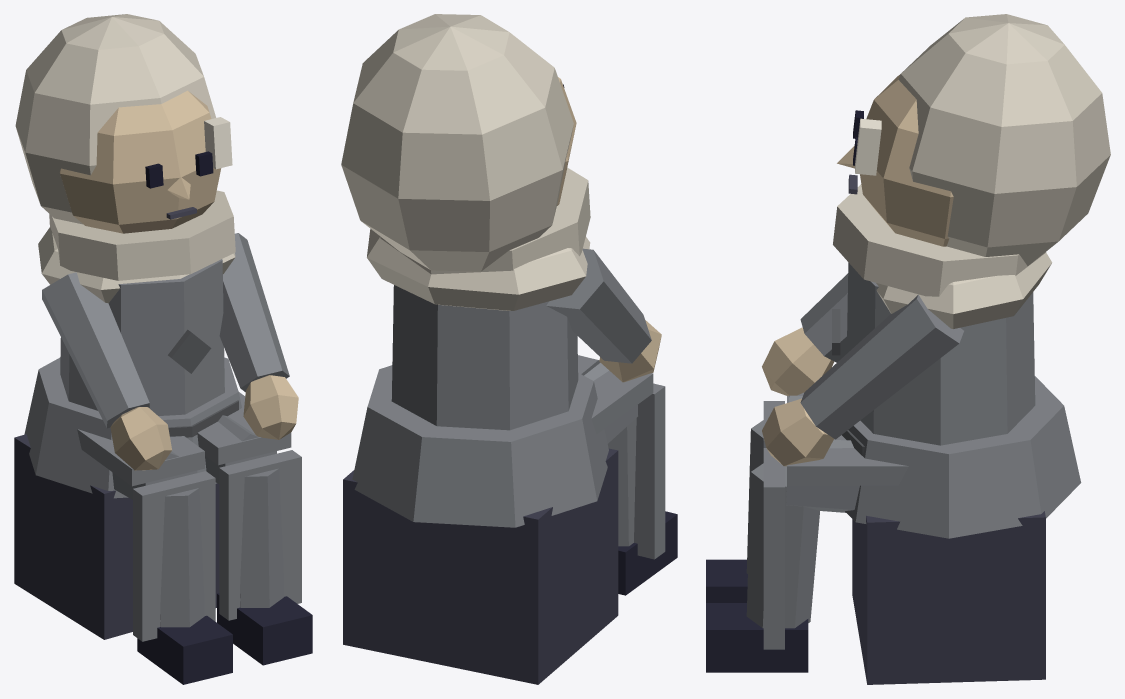
Rendered from oriel_seated.glb.
3 renders of one model, left to right at view 1: azimuth 30°, elevation 25°; view 2: azimuth 150°, elevation 25°; view 3: azimuth 270°, elevation 25°, orthographic. The views are drawn at different scales.
Visible parts, largest first — view 1: Head, Torso, LegR, LegL, Stool, ArmR, ArmL; view 2: Torso, Head, Stool, LegR, ArmR; view 3: Head, Torso, Stool, LegL, ArmL, ArmR, LegR.
Part boxes in pixels (left/top/right/bottom): Head: left=15, top=14, right=235, bottom=280; Torso: left=24, top=227, right=241, bottom=498; LegR: left=77, top=429, right=232, bottom=684; LegL: left=197, top=392, right=312, bottom=665; Stool: left=14, top=434, right=219, bottom=639; ArmR: left=42, top=272, right=171, bottom=470; ArmL: left=219, top=233, right=298, bottom=439; Torso: left=352, top=229, right=608, bottom=527; Head: left=341, top=14, right=590, bottom=274; Stool: left=343, top=448, right=618, bottom=684; LegR: left=578, top=355, right=677, bottom=595; ArmR: left=546, top=248, right=661, bottom=382; Head: left=833, top=14, right=1110, bottom=296; Torso: left=832, top=253, right=1081, bottom=538; Stool: left=852, top=511, right=1045, bottom=684; LegL: left=706, top=435, right=908, bottom=672; ArmL: left=762, top=294, right=963, bottom=466; ArmR: left=762, top=273, right=848, bottom=396; LegR: left=706, top=392, right=803, bottom=602.
Size of the model in its own units: 0.651 by 1.67 by 0.997.
